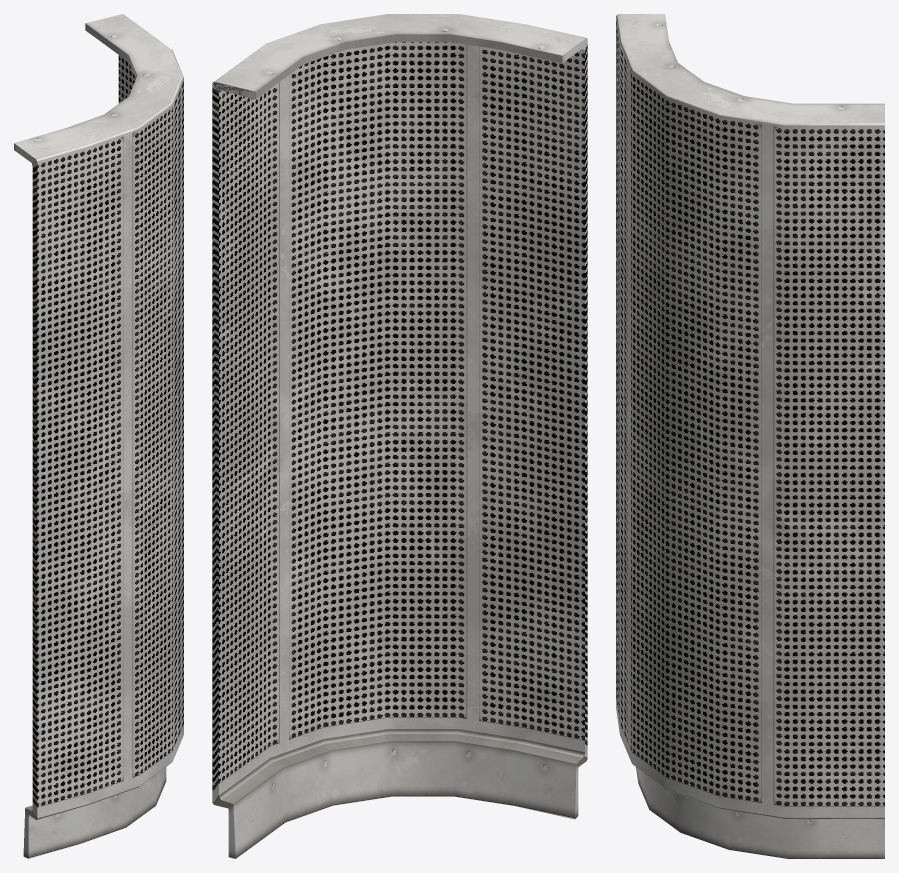
Rendered from boxing gym_air_duct_junction_quarter.fbx.
3 views of the same model, side by side, from view 1: azimuth 30°, elevation 25°; view 2: azimuth 150°, elevation 25°; view 3: azimuth 270°, elevation 25° (orthographic). The views are drawn at different scales.
Parts seen in each view (by area): view 1: air_duct_junction_quarter_LOD0; view 2: air_duct_junction_quarter_LOD0; view 3: air_duct_junction_quarter_LOD0.
Part boxes in pixels (left/top/right/bottom): air_duct_junction_quarter_LOD0: left=14, top=14, right=183, bottom=858; air_duct_junction_quarter_LOD0: left=212, top=14, right=587, bottom=858; air_duct_junction_quarter_LOD0: left=616, top=14, right=884, bottom=858.
Size of what is drawn, in the model's own units: 0.3213 by 0.3282 by 1.
